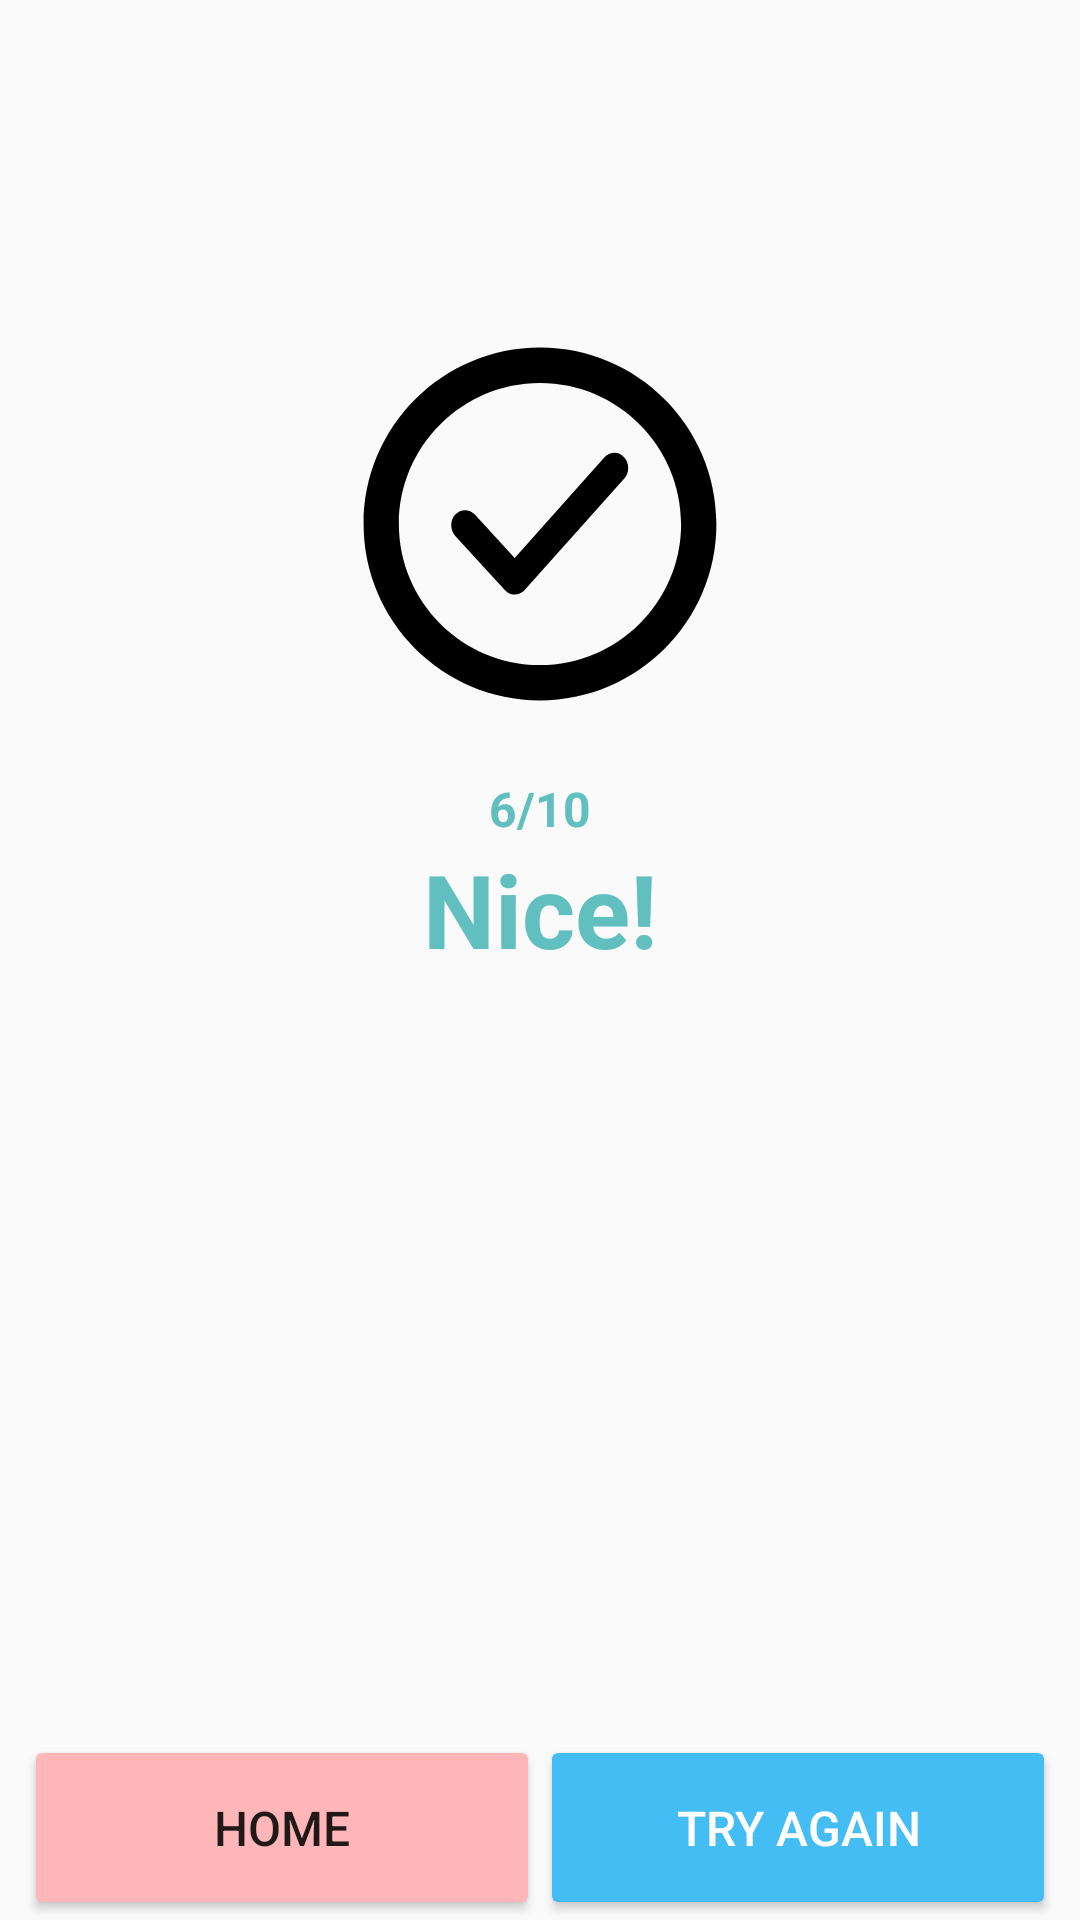

Where to tap for icons on this 1080w x 1920h app screen, as point (x, y):
Pass/Fail: point (540, 524)
